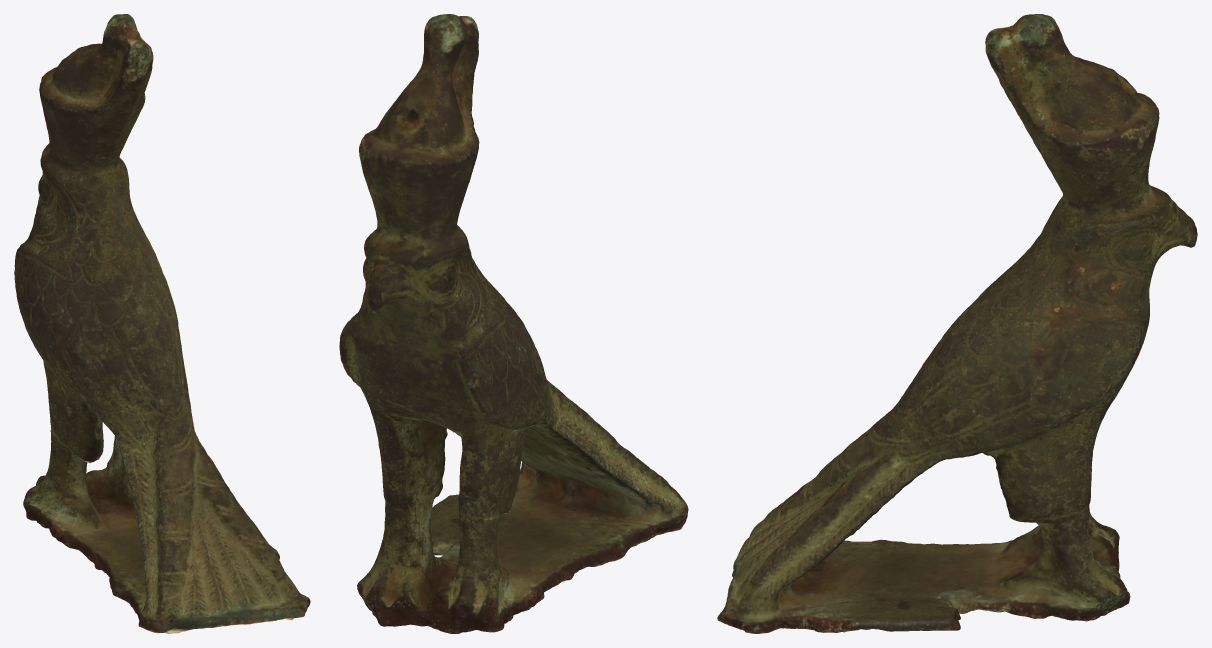
The model's file is statuette_falcon.glb.
The picture shows the model from 3 angles, left to right: view 1: azimuth 30°, elevation 25°; view 2: azimuth 150°, elevation 25°; view 3: azimuth 270°, elevation 25°; orthographic projection. The views are drawn at different scales.
Parts seen in each view (by area): view 1: Model_material0_0.003; view 2: Model_material0_0.003; view 3: Model_material0_0.003.
Boxes of the visible parts, bbox=[...] form: Model_material0_0.003: bbox=[14, 14, 310, 633]; Model_material0_0.003: bbox=[339, 14, 688, 633]; Model_material0_0.003: bbox=[717, 14, 1197, 633].
Bounding box in the file's own units: 0.1034 × 0.2956 × 0.2177.
1 material, 1 textured.
